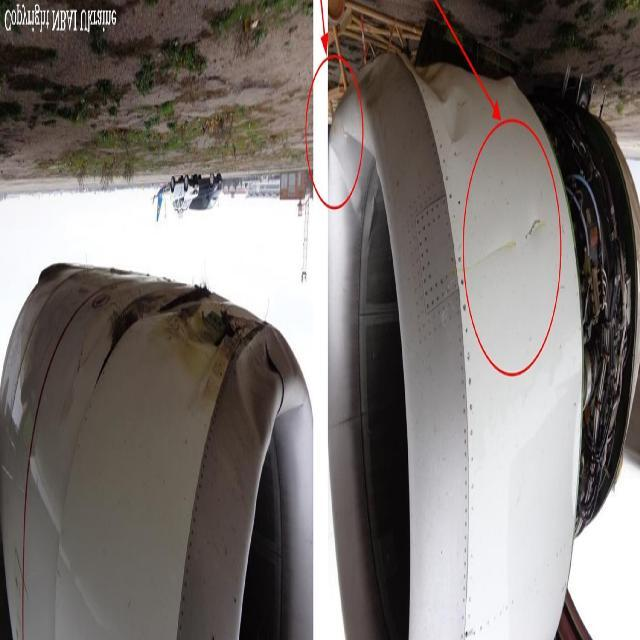crack: (525, 215, 546, 252)
dent: (410, 60, 473, 145)
